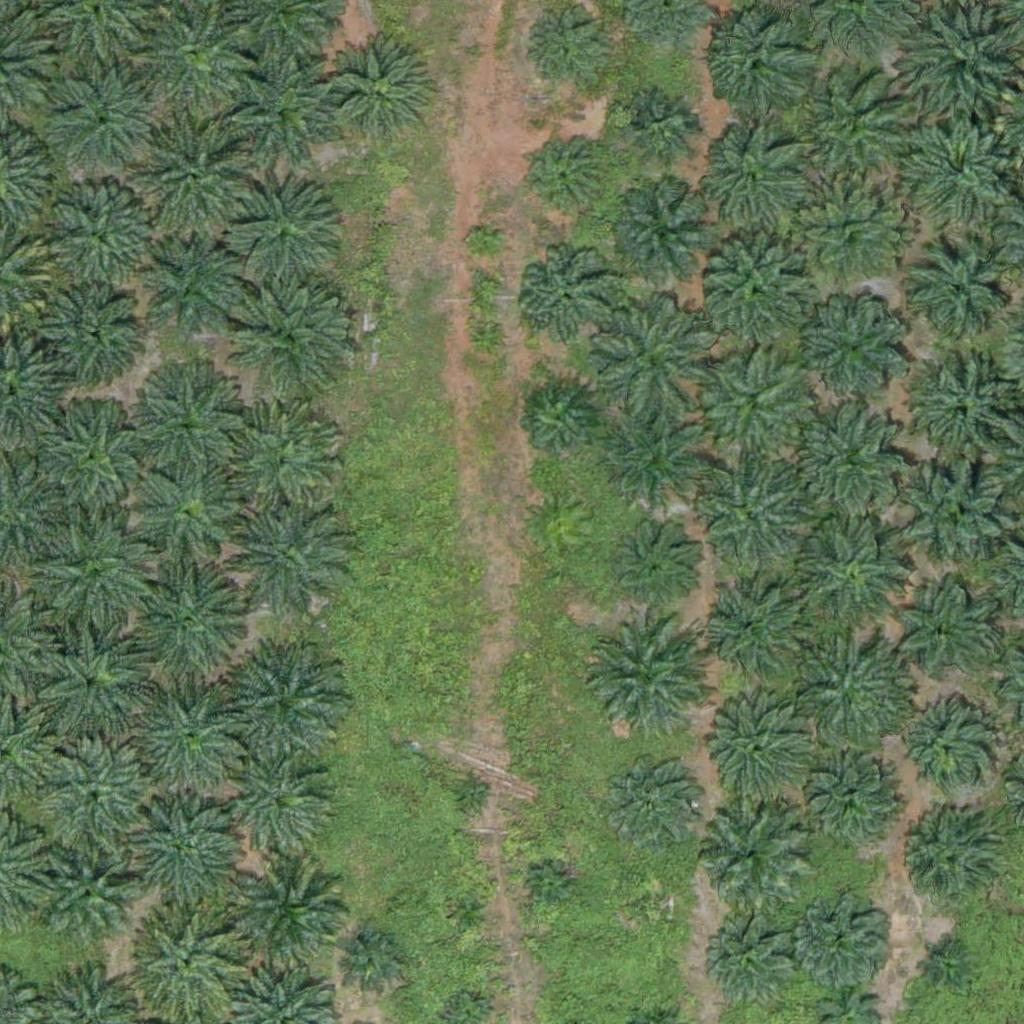Kelapa_Sawit: (226, 172, 351, 298), (225, 268, 350, 394), (127, 120, 252, 246), (587, 294, 712, 420), (126, 360, 251, 486), (33, 396, 158, 522), (220, 398, 345, 524), (30, 519, 155, 645), (24, 622, 149, 748), (32, 744, 157, 870), (119, 795, 244, 921), (127, 681, 252, 807), (122, 560, 247, 686), (224, 498, 349, 624), (220, 643, 345, 769), (231, 863, 356, 989), (580, 614, 705, 740), (792, 629, 917, 754), (796, 70, 909, 183), (790, 176, 903, 289), (702, 237, 815, 350), (692, 121, 805, 234), (702, 5, 815, 118), (323, 40, 436, 153), (133, 238, 246, 351), (47, 64, 160, 177), (45, 178, 158, 291), (800, 287, 913, 400), (908, 357, 1021, 470), (691, 797, 804, 910), (795, 402, 908, 515), (795, 515, 908, 628), (893, 453, 1006, 566), (229, 54, 341, 168), (901, 235, 1013, 348), (901, 111, 1013, 224), (908, 9, 1020, 122), (700, 353, 812, 466), (601, 404, 713, 517), (696, 460, 808, 573), (698, 693, 810, 806), (134, 905, 246, 1018), (612, 186, 712, 287), (40, 279, 140, 380), (231, 758, 331, 859), (601, 753, 701, 854), (704, 581, 804, 682), (802, 753, 902, 854), (892, 581, 992, 682), (894, 698, 994, 799), (892, 811, 992, 912), (797, 888, 897, 989), (516, 249, 616, 349), (138, 468, 238, 568), (525, 7, 613, 95), (523, 135, 611, 223), (42, 854, 129, 943), (613, 518, 700, 606), (710, 921, 797, 1009), (522, 383, 597, 459), (624, 90, 699, 165), (342, 928, 405, 991), (451, 894, 489, 932), (452, 775, 490, 813), (466, 226, 503, 264), (929, 950, 967, 987), (637, 888, 675, 925), (533, 868, 570, 906)
